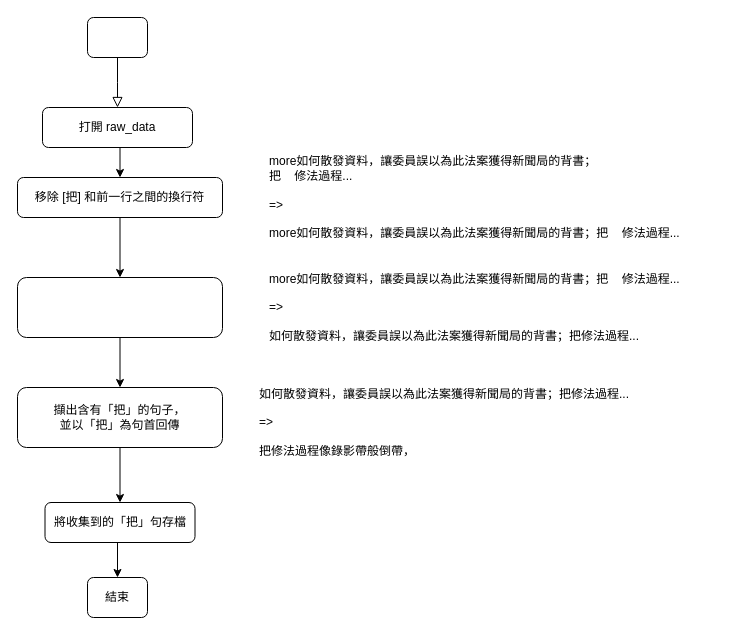
Image size: 741x635. Some labels were removed from this diagram. The centre of each missing label's shape, as x and y in pixels:
刪除 "tab (\t)" 刪除 "more": (x=119, y=307)
開始: (x=117, y=37)
